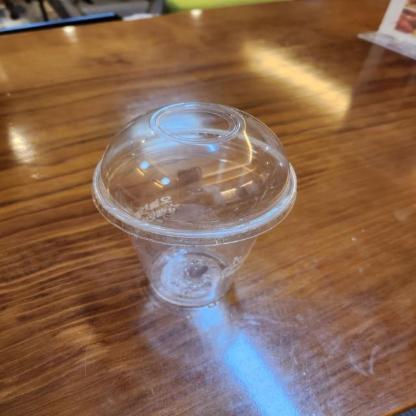Plastic Cup: (88, 96, 298, 242)
